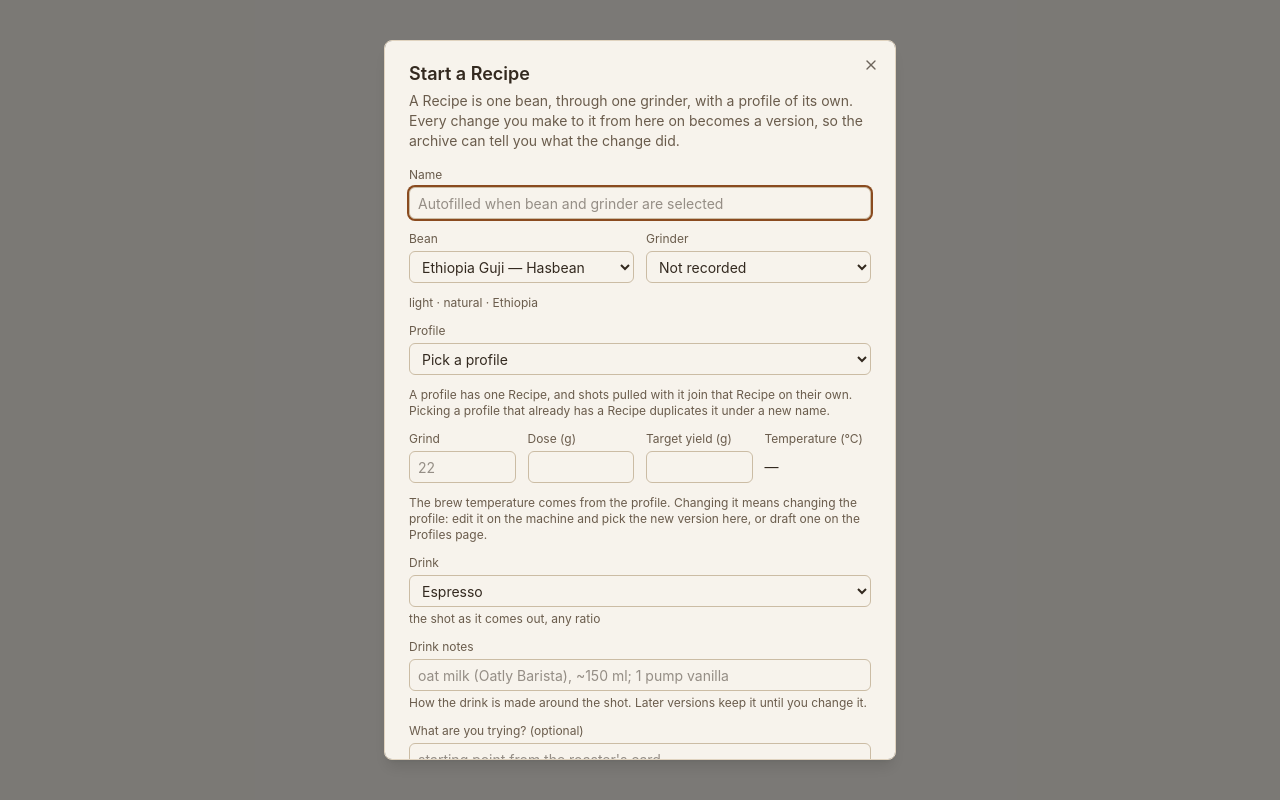
NewRecipeDialog › pre-selects the bag the Beans page shortcut named
Expected: the dropdown labelled "Bean" shows "Ethiopia Guji — Hasbean", [409,251,634,283]
Select "9 Bar Espresso" in the dropdown labelled "Profile": point(640, 359) [409,343,871,375]
(page scrolled)
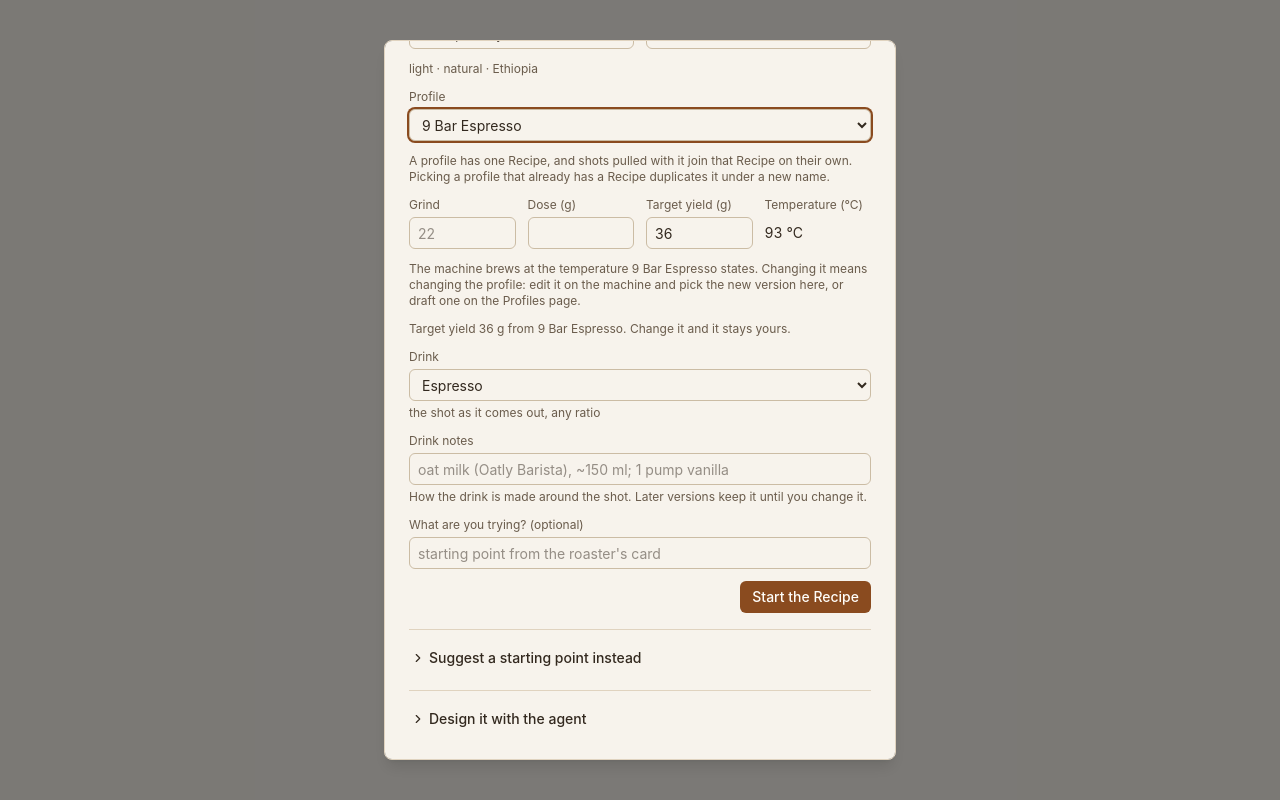
Expected: the button "Start the Recipe" is enabled, [740,581,871,613]
